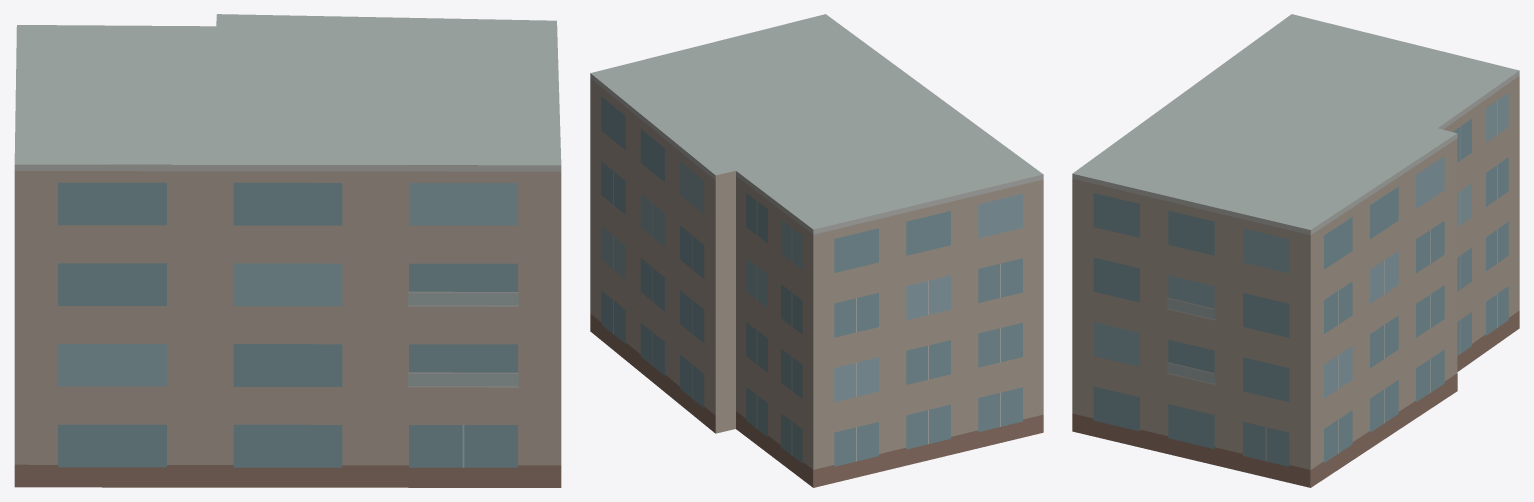
Rendered from survey-upis-32706598.glb.
3 renders of one model, left to right at view 1: azimuth 30°, elevation 25°; view 2: azimuth 150°, elevation 25°; view 3: azimuth 270°, elevation 25°, orthographic. The views are drawn at different scales.
Visible parts, largest first — view 1: survey-upis-32706598.tmp; view 2: survey-upis-32706598.tmp; view 3: survey-upis-32706598.tmp.
Part boxes in pixels (bbox=[...]): survey-upis-32706598.tmp: bbox=[14, 14, 561, 487]; survey-upis-32706598.tmp: bbox=[590, 14, 1043, 487]; survey-upis-32706598.tmp: bbox=[1072, 14, 1519, 487].
Size of the model in its own units: 22.12 by 12.3 by 19.35.
